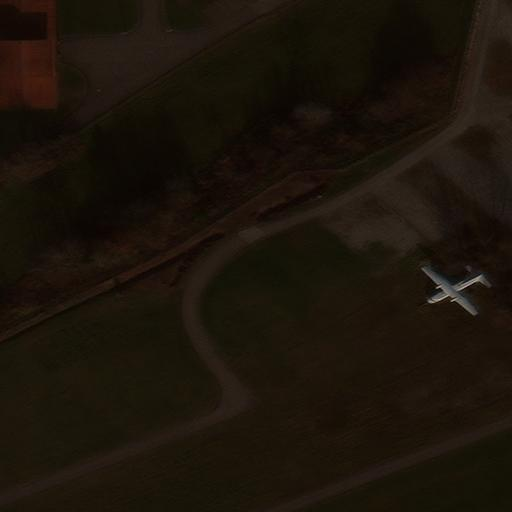Medium Civil Transport: (421, 270, 482, 317)
